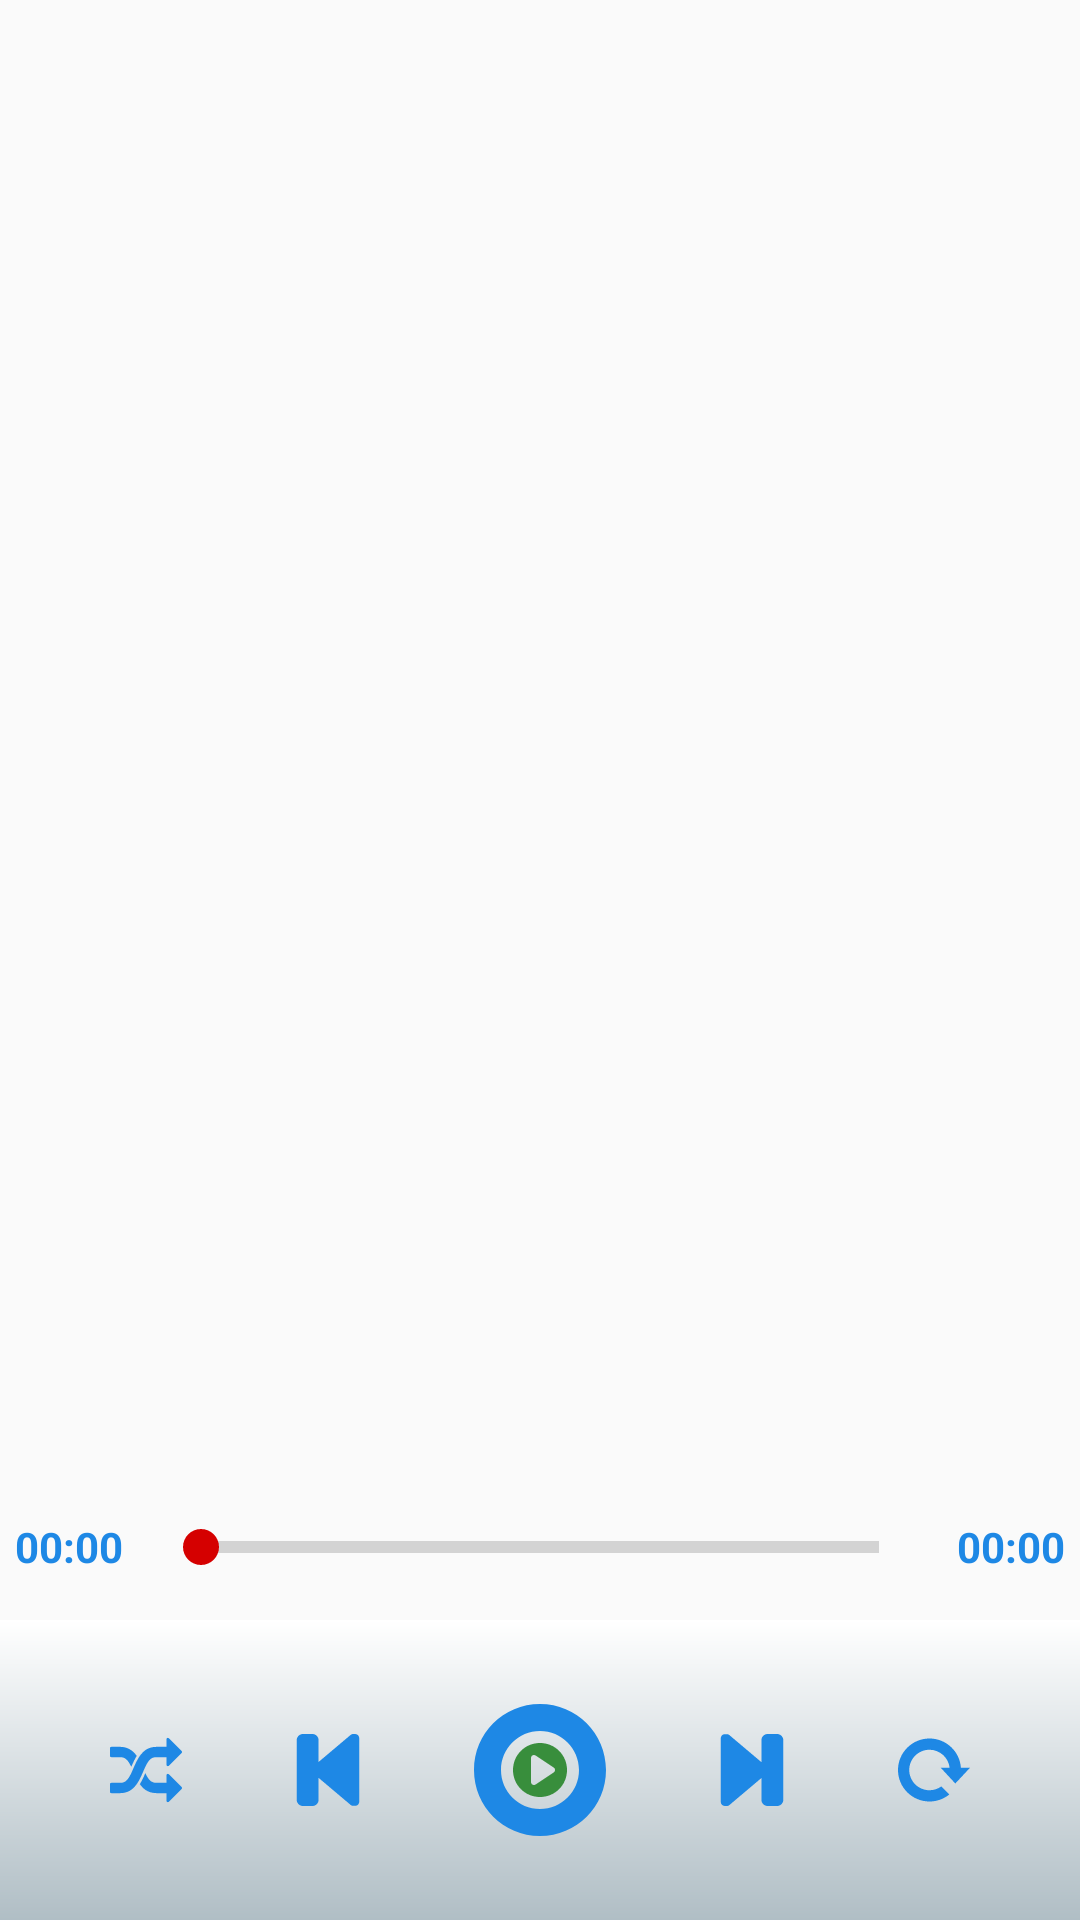

Where to tap for icons on this 1080px x 1920px app screen, as (x,y):
loop all: (934,1772)
next: (752,1770)
play: (540,1770)
previous: (328,1770)
shuffle: (146,1771)
